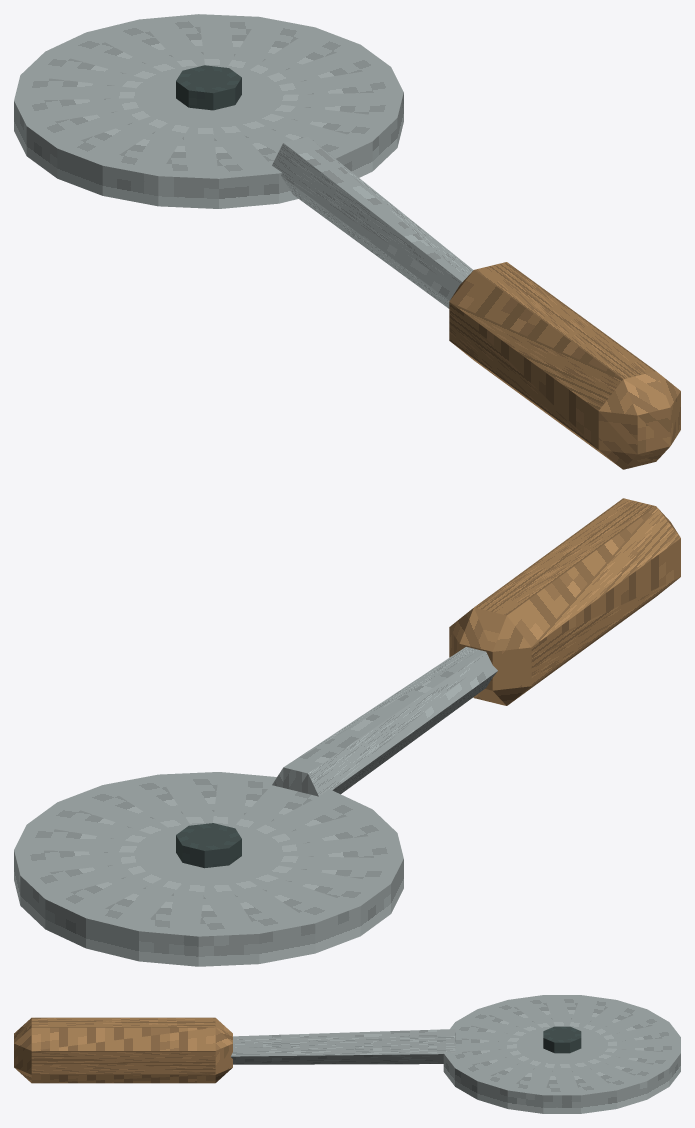
Rendered from pizza_cutter.glb.
3 views of the same model, one above another, from view 1: azimuth 30°, elevation 25°; view 2: azimuth 150°, elevation 25°; view 3: azimuth 270°, elevation 25° (orthographic). The views are drawn at different scales.
Parts seen in each view (by area): view 1: block_rotary wheel, block_handle, block_steel shank, block_axle; view 2: block_rotary wheel, block_handle, block_steel shank, block_axle; view 3: block_rotary wheel, block_handle, block_steel shank, block_axle.
Boxes of the visible parts, x1,y1,x2,y2 form: block_rotary wheel: (14, 14, 403, 208); block_handle: (449, 262, 680, 469); block_steel shank: (272, 137, 473, 308); block_axle: (176, 65, 241, 110); block_rotary wheel: (14, 772, 403, 966); block_handle: (449, 498, 680, 705); block_steel shank: (272, 647, 497, 796); block_axle: (176, 823, 241, 868); block_rotary wheel: (443, 995, 680, 1113); block_handle: (14, 1017, 232, 1083); block_steel shank: (231, 1029, 455, 1064); block_axle: (543, 1026, 581, 1053).
Size of the model in its own units: 0.0819 by 0.0212 by 0.23.
1 material, 1 textured.
